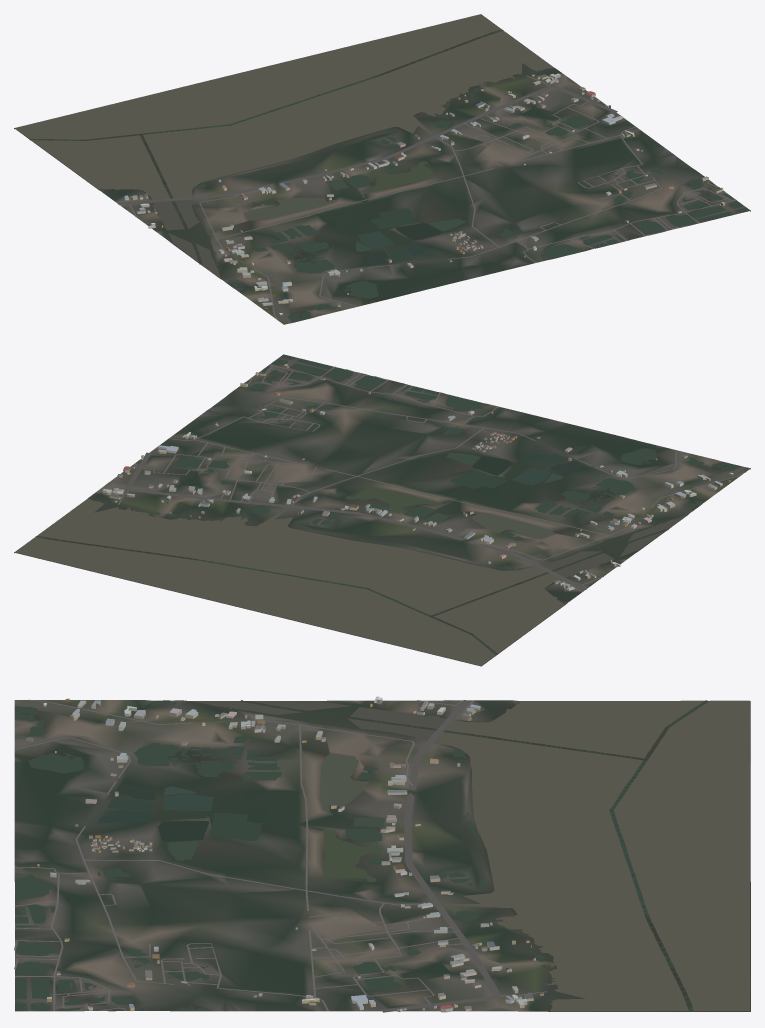
3 views of the same model, one above another, from view 1: azimuth 30°, elevation 25°; view 2: azimuth 150°, elevation 25°; view 3: azimuth 270°, elevation 25° (orthographic). The views are drawn at different scales.
Parts seen in each view (by area): view 1: ground, water, roads, buildings; view 2: ground, water, roads, buildings; view 3: ground, water, roads, buildings.
Boxes of the visible parts, x1,y1,x2,y2 form: ground: (14,14,750,324); water: (15,14,749,322); roads: (116,75,736,320); buildings: (124,73,725,315); ground: (14,355,750,666); water: (15,354,741,665); roads: (118,364,745,591); buildings: (103,364,733,590); ground: (14,700,750,1011); water: (15,700,750,1011); roads: (14,699,546,1012); buildings: (26,696,543,1012).
Bounding box in the file's own units: 1414 × 13.64 × 1402.
